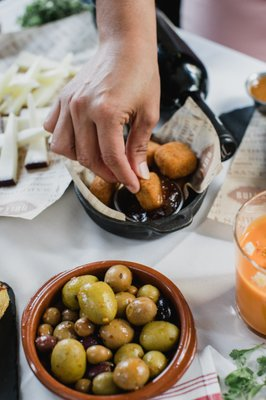sushi: (52, 6, 235, 239), (20, 259, 199, 400), (60, 99, 227, 240)
